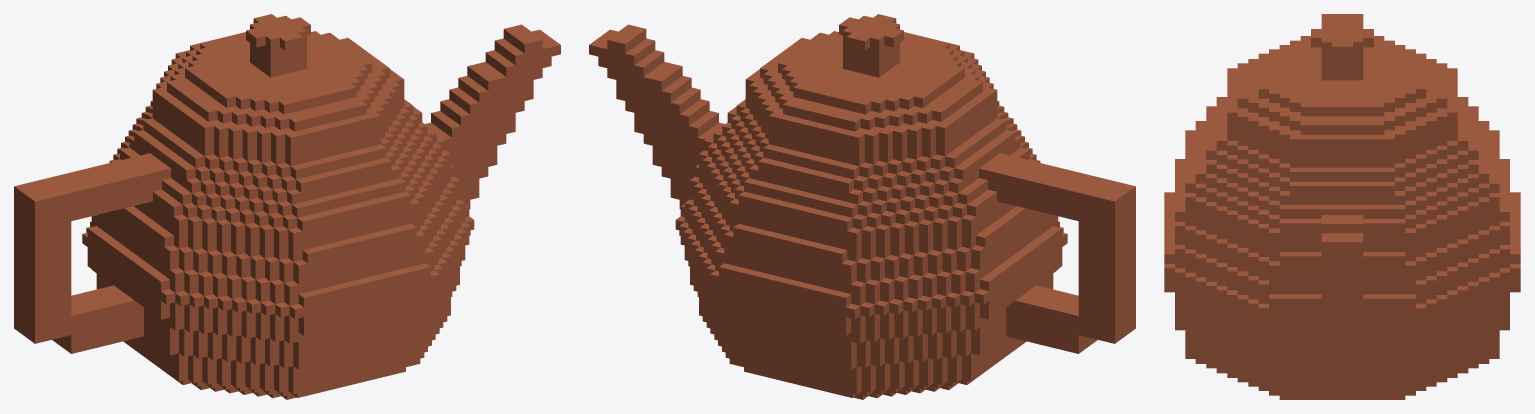
Rendered from clay_teapot.glb.
3 views of the same model, side by side, from view 1: azimuth 30°, elevation 25°; view 2: azimuth 150°, elevation 25°; view 3: azimuth 270°, elevation 25° (orthographic).
Visible parts, largest first — view 1: clay_teapot:compound; view 2: clay_teapot:compound; view 3: clay_teapot:compound.
Part boxes in pixels (x1,y1,x2,y2): clay_teapot:compound: (14,14,560,399); clay_teapot:compound: (589,14,1135,399); clay_teapot:compound: (1164,14,1520,399).
Bounding box in the file's own units: 0.232 × 0.132 × 0.136.
